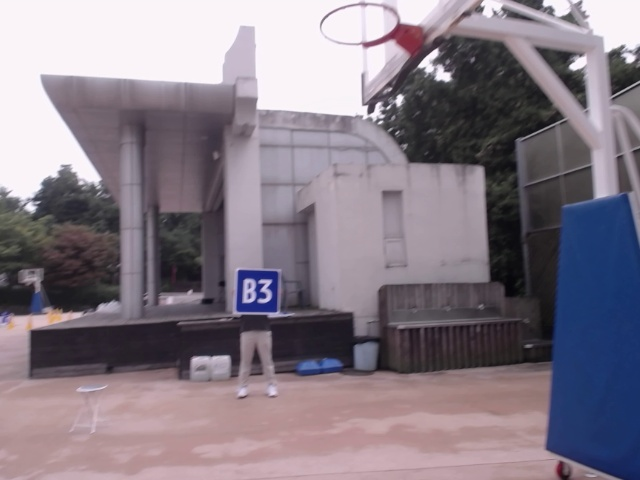delivery_b3: (236, 271, 281, 314)
